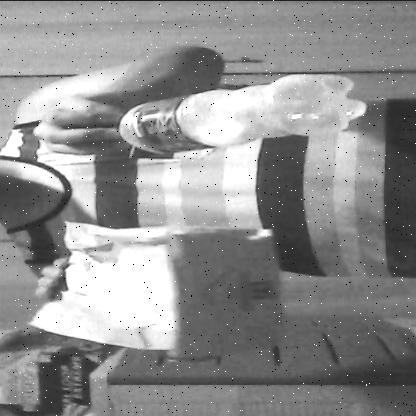Plastic Bottle: (104, 66, 374, 154)
